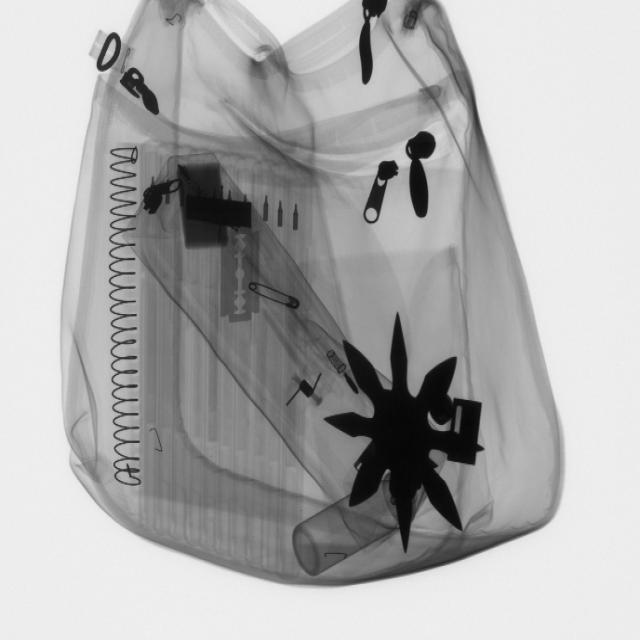BLADE: (208, 213, 265, 332)
SHURIKEN: (328, 316, 479, 556)
